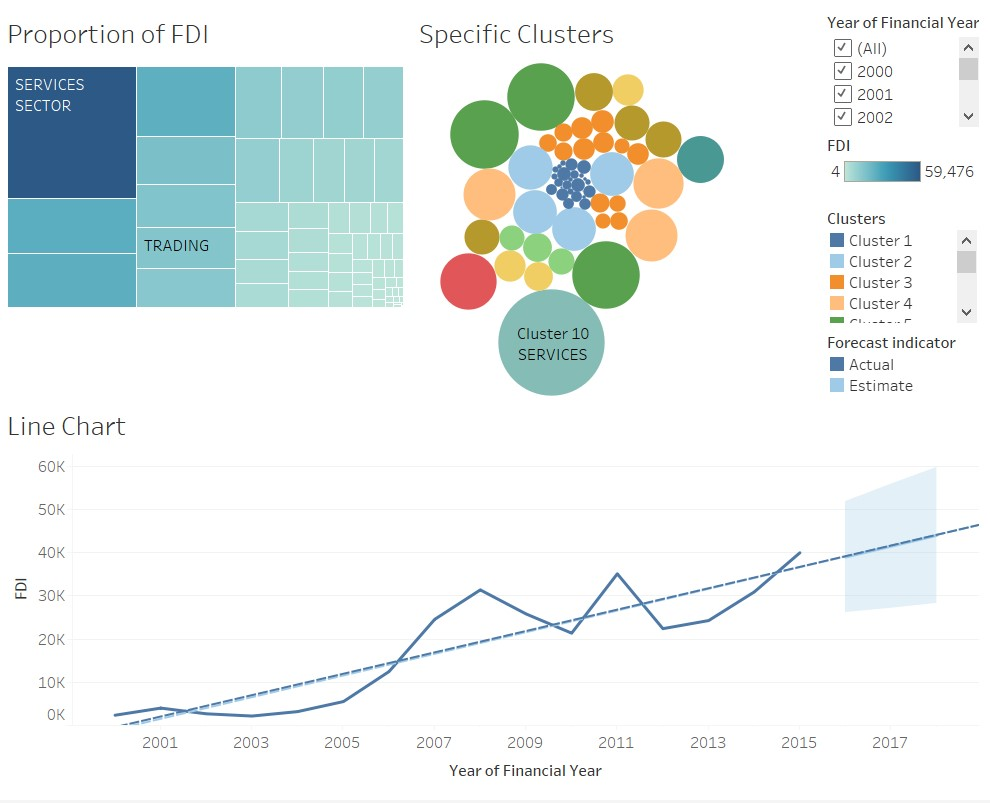

The page's visual inventory and layout, read from the dashboard file:
{"tool":"tableau","page":{"name":"Dashboard 2","canvas":[1000,800],"ordinal":1},"visuals":[{"type":"worksheet","title":"Proportion of FDI","mark":"Automatic","box":[8,8,412,392]},{"type":"worksheet","title":"Specific Clusters","mark":"Circle","box":[420,8,412,392]},{"type":"filter","title":"Proportion of FDI","param":"[federated.0mrjegp0n5ya1v17lenrx1ktdklb].[yr:Calculation_936467257374990342:ok]","box":[832,8,160,123.5]},{"type":"legend","title":"Proportion of FDI","param":"[federated.0mrjegp0n5ya1v17lenrx1ktdklb].[sum:Pivot Field Values:qk]","box":[832,131.5,160,73]},{"type":"legend","title":"Specific Clusters","param":"[federated.0mrjegp0n5ya1v17lenrx1ktdklb].[none:AdhocCluster:1:ok]","box":[832,204.5,160,123.5]},{"type":"legend","title":"Line Chart","param":"[federated.0mrjegp0n5ya1v17lenrx1ktdklb].[none:Forecast Indicator:nk]","box":[832,328,160,72]},{"type":"worksheet","title":"Line Chart","mark":"Automatic","rows":["Pivot Field Values"],"cols":["Calculation_936467257374990342"],"box":[8,400,984,392]}]}

Visuals, with their boxes in screenshot pixels (x1, y1, x2, y2), scaled from the page's 1000x800 canvas onto the 990x803 screenshot:
"Proportion of FDI" worksheet: (8,8,416,401)
"Specific Clusters" worksheet (Circle marks): (416,8,824,401)
"Proportion of FDI" filter: (824,8,982,132)
"Proportion of FDI" legend: (824,132,982,205)
"Specific Clusters" legend: (824,205,982,329)
"Line Chart" legend: (824,329,982,401)
"Line Chart" worksheet: (8,401,982,795)
